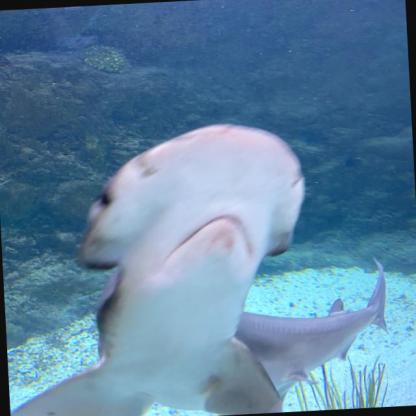shark: (0, 115, 394, 415)
